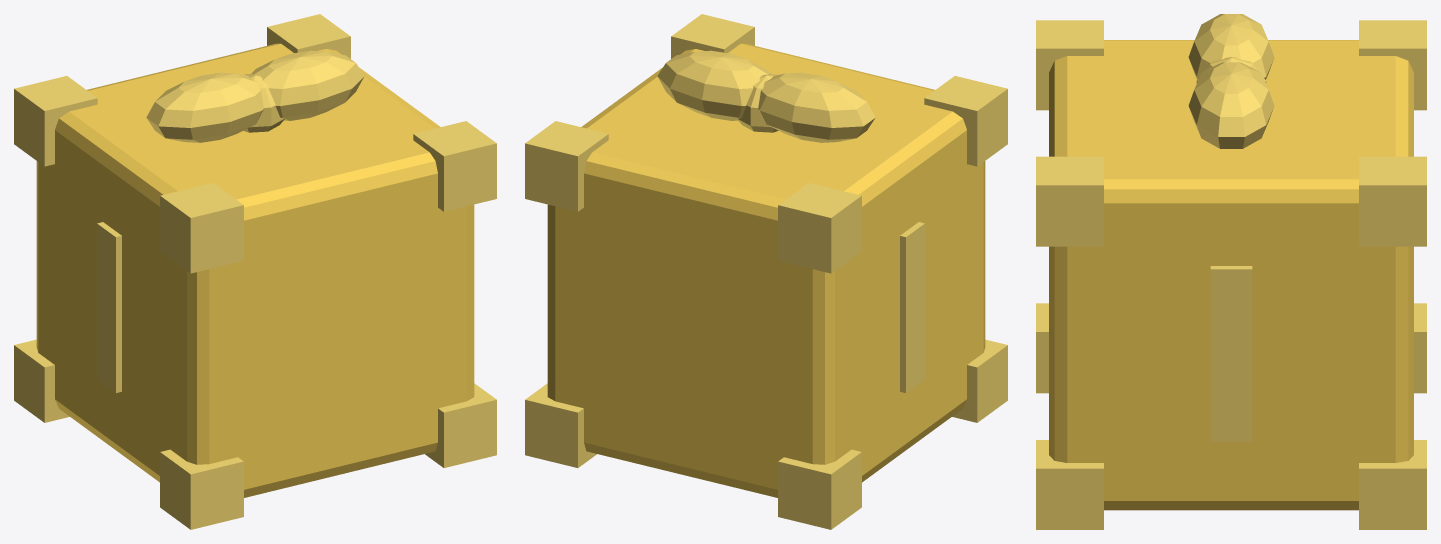
The model's file is itembox.glb.
3 renders of one model, left to right at view 1: azimuth 30°, elevation 25°; view 2: azimuth 150°, elevation 25°; view 3: azimuth 270°, elevation 25°, orthographic. The views are drawn at different scales.
Visible parts, largest first — view 1: boxbody, CornerCaps, bowloop-0.22, bowloop0.22, Cube, Cube.001, bowknot; view 2: boxbody, CornerCaps, bowloop-0.22, bowloop0.22, Cube, bowknot; view 3: boxbody, CornerCaps, Cube, bowloop0.22, bowloop-0.22, Cube.001.
Boxes of the visible parts, x1,y1,x2,y2 form: boxbody: [36, 43, 474, 497]; CornerCaps: [14, 14, 496, 529]; bowloop-0.22: [146, 72, 263, 142]; bowloop0.22: [251, 50, 364, 120]; Cube: [97, 222, 121, 390]; Cube.001: [97, 222, 121, 392]; bowknot: [243, 73, 284, 132]; boxbody: [547, 43, 985, 497]; CornerCaps: [525, 14, 1007, 529]; bowloop-0.22: [758, 72, 875, 142]; bowloop0.22: [657, 50, 770, 120]; Cube: [900, 222, 924, 392]; bowknot: [737, 73, 778, 132]; boxbody: [1049, 40, 1413, 510]; CornerCaps: [1036, 20, 1426, 529]; Cube: [1210, 266, 1252, 441]; bowloop0.22: [1188, 62, 1274, 148]; bowloop-0.22: [1188, 14, 1274, 79]; Cube.001: [1210, 266, 1252, 441].
Bounding box in the file's own units: 1.5 × 1.68 × 1.5.
